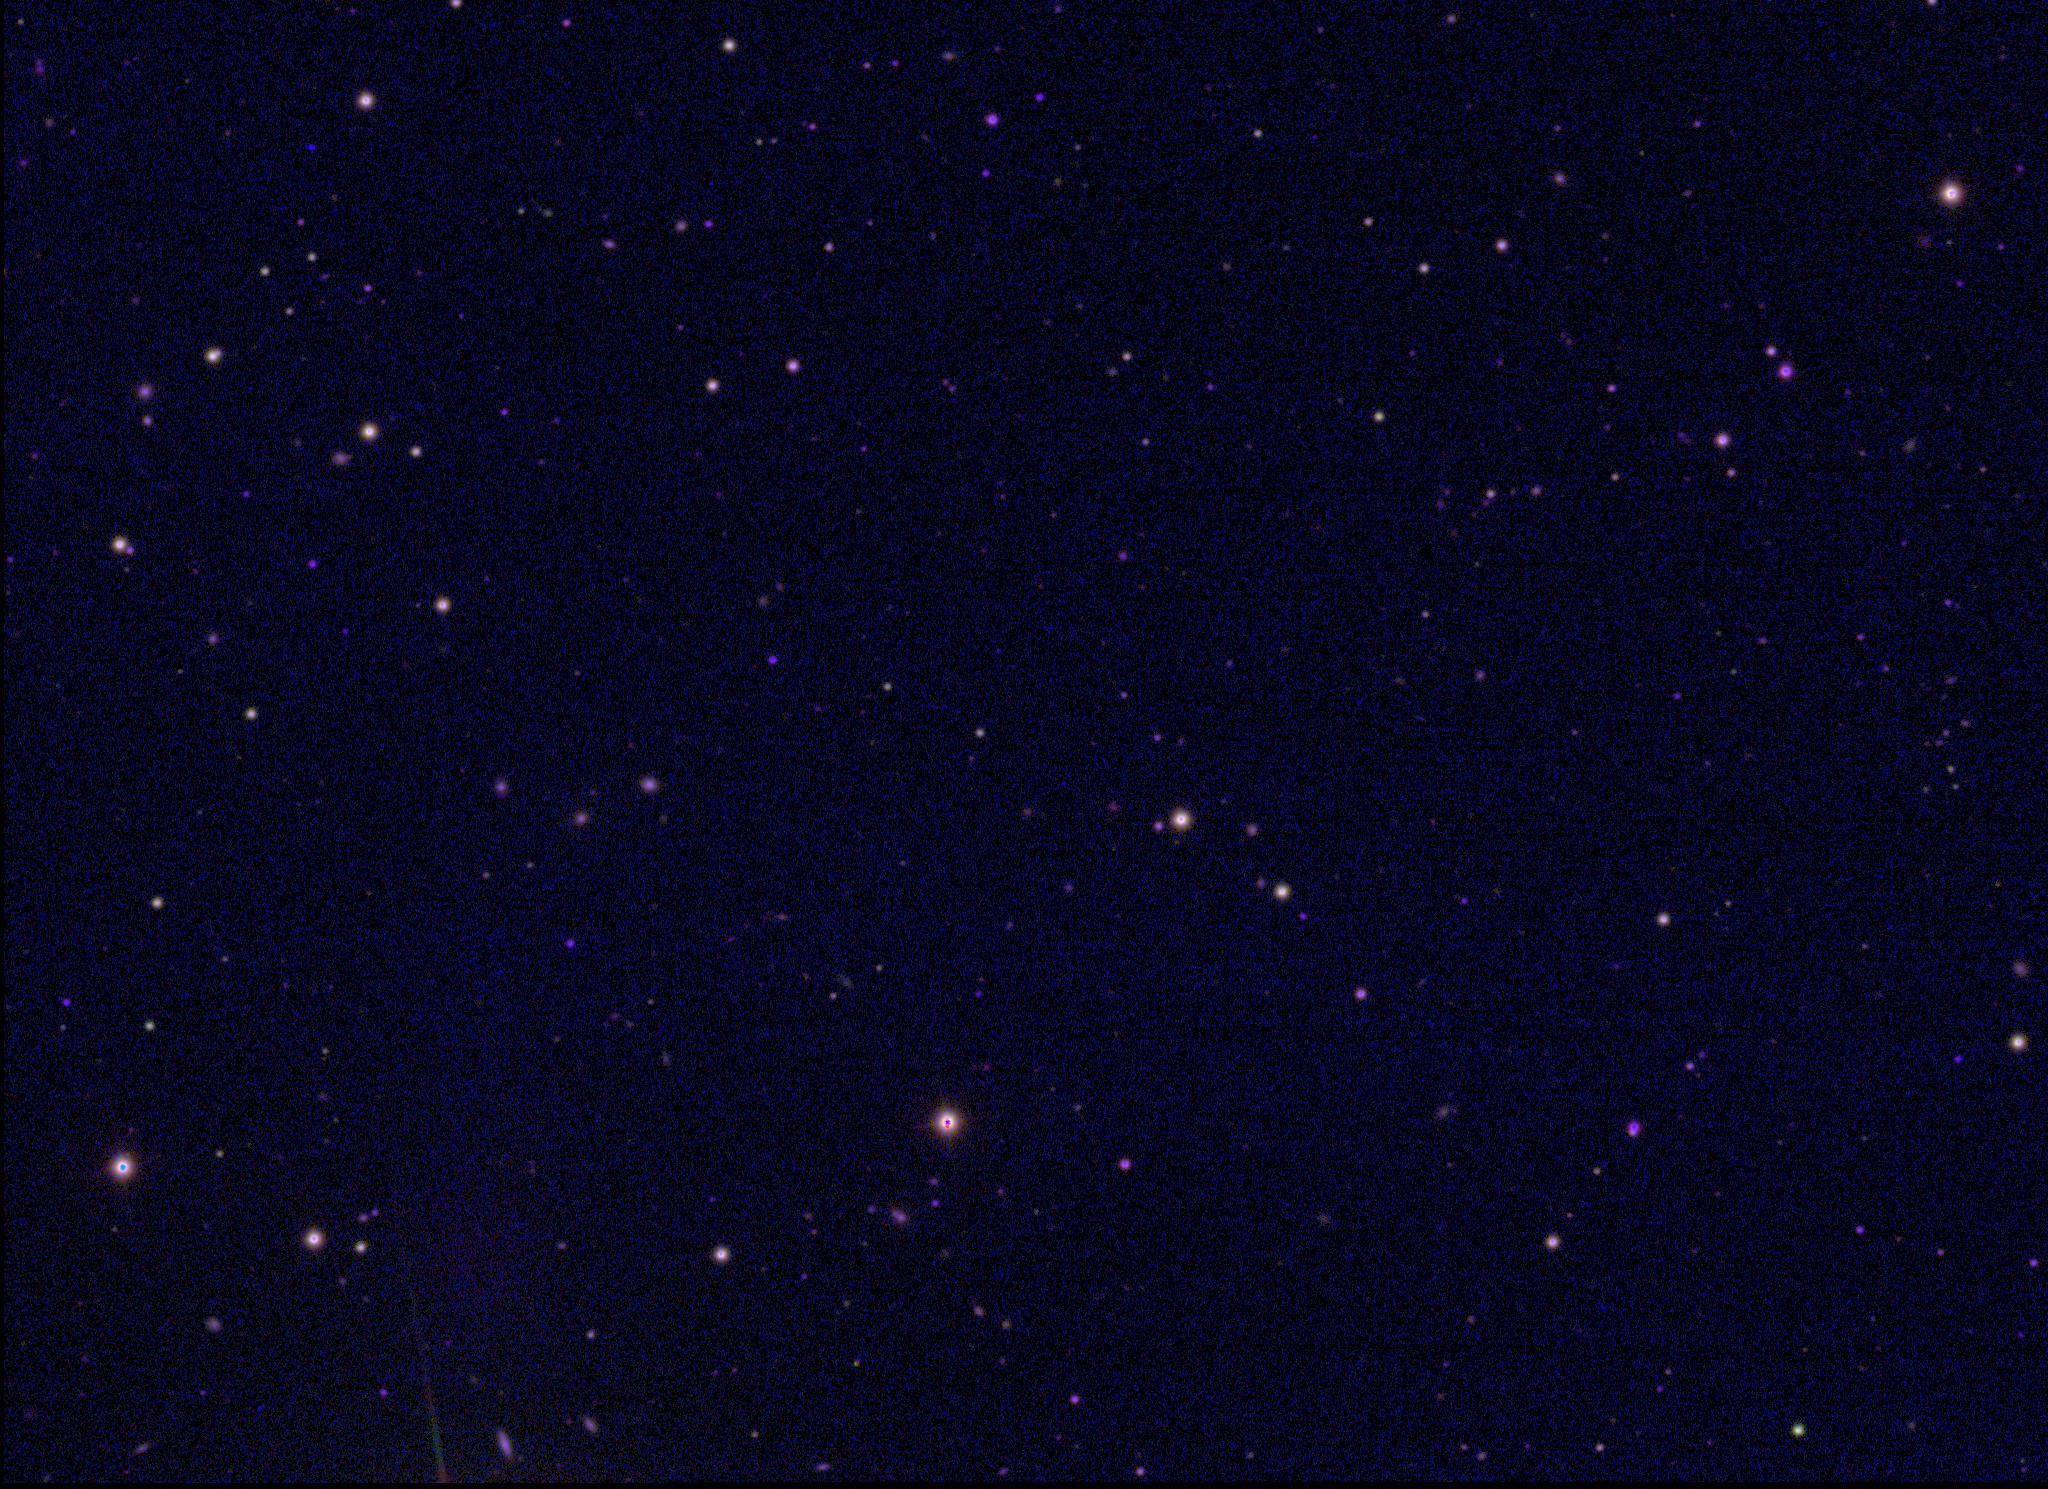L: (305, 140, 320, 154)
